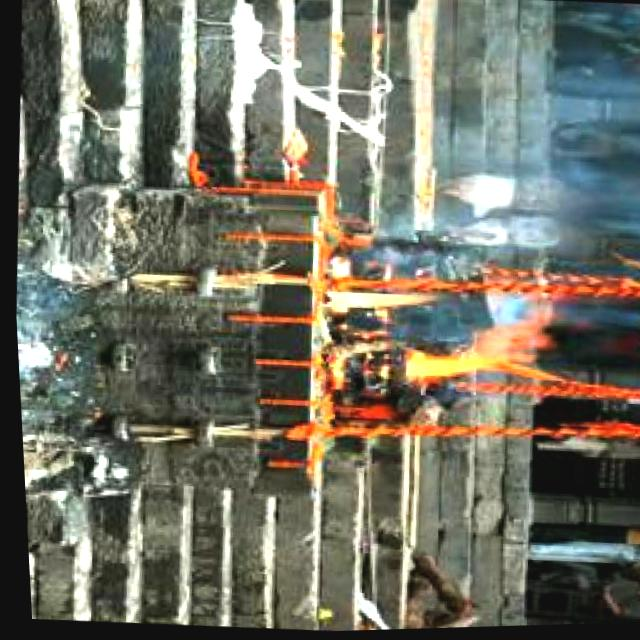Fire: (393, 315, 554, 399), (319, 269, 440, 338)
